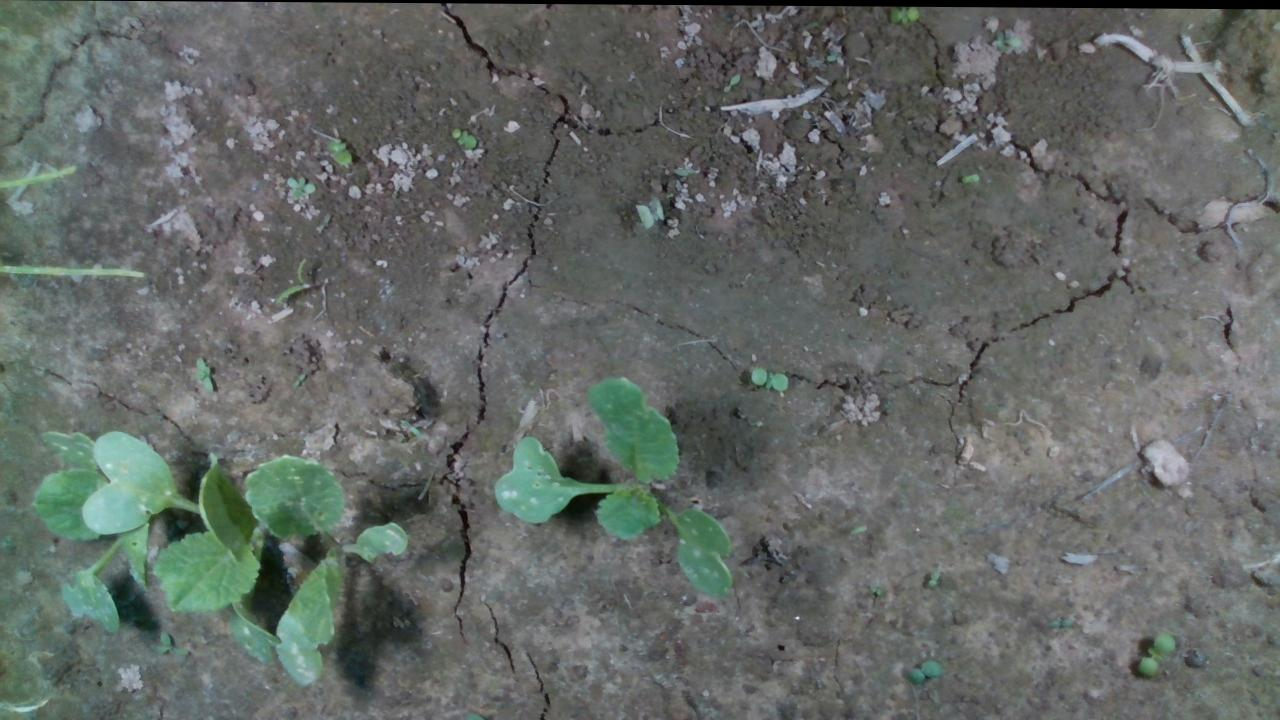weed: (1140, 632, 1183, 679), (903, 657, 959, 691), (747, 364, 790, 390), (280, 172, 315, 202), (927, 565, 950, 588), (861, 581, 889, 598)
